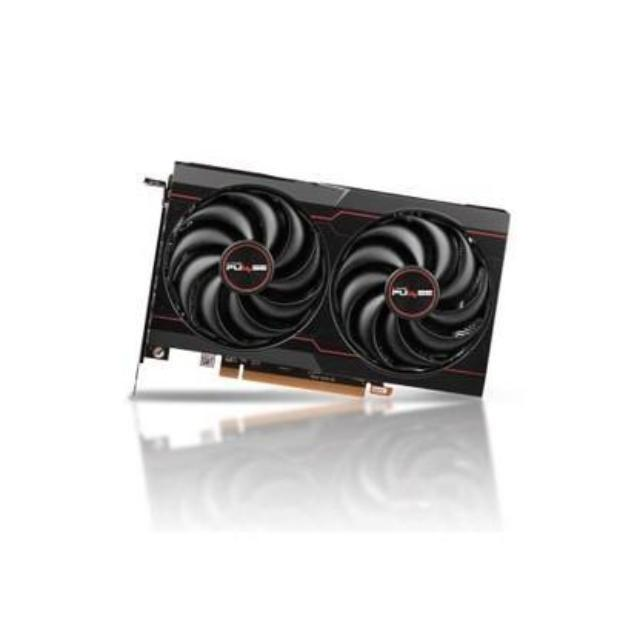GPU: (135, 154, 516, 416)
